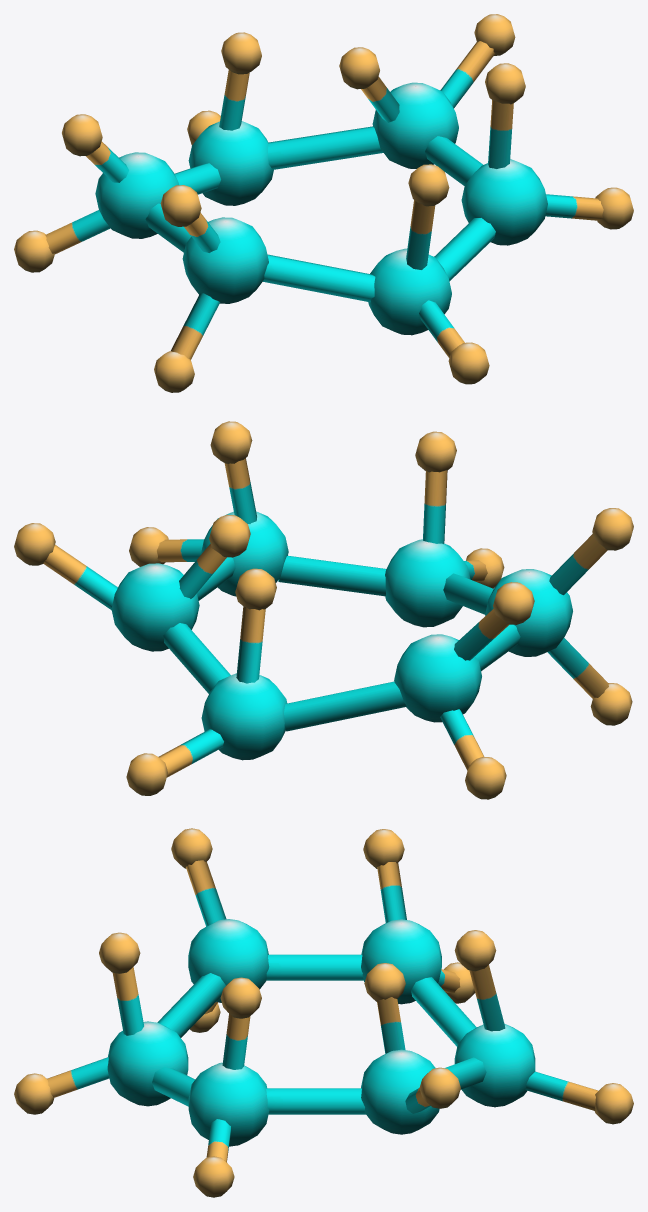
Rendered from Cyclohexane.dae.
3 views of the same model, one above another, from view 1: azimuth 30°, elevation 25°; view 2: azimuth 150°, elevation 25°; view 3: azimuth 270°, elevation 25° (orthographic). The views are drawn at different scales.
Visible parts, largest first — view 1: polySurface39; view 2: polySurface39; view 3: polySurface39.
Part boxes in pixels (x1,y1,x2,y2): polySurface39: (14,14,633,392); polySurface39: (14,421,633,799); polySurface39: (14,828,633,1197).
Size of the model in its own units: 4.64 by 2.03 by 5.19.
Materials: 1 (1 with a texture image).
